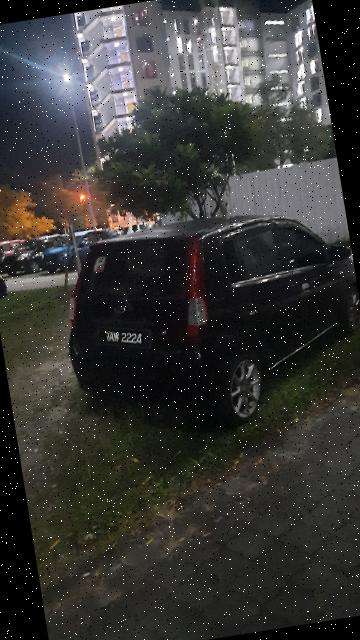License_Plate: (97, 319, 156, 359)
car: (47, 196, 360, 454)
